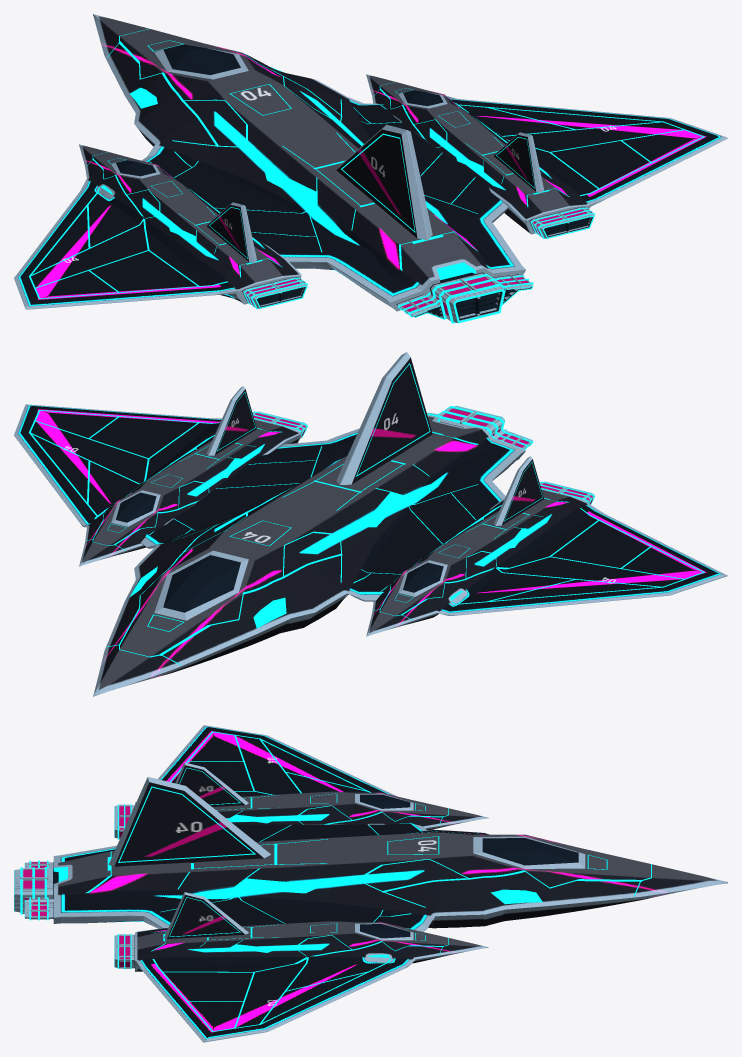
File: neon-black.glb
3 renders of one model, top to bottom at view 1: azimuth 30°, elevation 25°; view 2: azimuth 150°, elevation 25°; view 3: azimuth 270°, elevation 25°, orthographic. The views are drawn at different scales.
Visible parts, largest first — view 1: CENTER_AF04_BODY_CENTER, SIDE_L_AF04_BODY_CENTER, SIDE_R_AF04_BODY_CENTER, TAIL41_CENTER, CENTER_AF04_CANOPY_0, TAIL41_SIDE_R, TAIL41_SIDE_L, CENTER_AF04_CENTER_CANOPY_FRAME_USER; view 2: CENTER_AF04_BODY_CENTER, SIDE_L_AF04_BODY_CENTER, SIDE_R_AF04_BODY_CENTER, TAIL41_CENTER, CENTER_AF04_CANOPY_0, TAIL41_SIDE_L, TAIL41_SIDE_R, CENTER_AF04_CENTER_CANOPY_FRAME_USER, SIDE_L_AF04_CANOPY_0, SIDE_R_AF04_CANOPY_0; view 3: CENTER_AF04_BODY_CENTER, SIDE_R_AF04_BODY_CENTER, SIDE_L_AF04_BODY_CENTER, TAIL41_CENTER, TAIL41_SIDE_R, CENTER_AF04_CANOPY_0, TAIL41_SIDE_L, CENTER_AF04_CENTER_CANOPY_FRAME_USER, SIDE_L_AF04_CANOPY_0, SIDE_R_AF04_CANOPY_0.
Part boxes in pixels (bbox=[...]): CENTER_AF04_BODY_CENTER: bbox=[93, 14, 525, 311]; SIDE_L_AF04_BODY_CENTER: bbox=[14, 144, 301, 309]; SIDE_R_AF04_BODY_CENTER: bbox=[366, 74, 727, 234]; TAIL41_CENTER: bbox=[336, 125, 432, 240]; CENTER_AF04_CANOPY_0: bbox=[163, 44, 240, 74]; TAIL41_SIDE_R: bbox=[494, 132, 543, 192]; TAIL41_SIDE_L: bbox=[207, 202, 256, 262]; CENTER_AF04_CENTER_CANOPY_FRAME_USER: bbox=[154, 44, 248, 79]; CENTER_AF04_BODY_CENTER: bbox=[93, 415, 525, 696]; SIDE_L_AF04_BODY_CENTER: bbox=[366, 489, 727, 636]; SIDE_R_AF04_BODY_CENTER: bbox=[14, 404, 301, 566]; TAIL41_CENTER: bbox=[336, 352, 432, 484]; CENTER_AF04_CANOPY_0: bbox=[163, 555, 240, 612]; TAIL41_SIDE_L: bbox=[493, 456, 543, 525]; TAIL41_SIDE_R: bbox=[206, 386, 256, 455]; CENTER_AF04_CENTER_CANOPY_FRAME_USER: bbox=[154, 550, 248, 620]; SIDE_L_AF04_CANOPY_0: bbox=[403, 562, 443, 592]; SIDE_R_AF04_CANOPY_0: bbox=[116, 492, 156, 522]; CENTER_AF04_BODY_CENTER: bbox=[53, 822, 727, 931]; SIDE_R_AF04_BODY_CENTER: bbox=[135, 921, 488, 1042]; SIDE_L_AF04_BODY_CENTER: bbox=[135, 725, 488, 829]; TAIL41_CENTER: bbox=[108, 777, 270, 866]; TAIL41_SIDE_R: bbox=[164, 892, 248, 938]; CENTER_AF04_CANOPY_0: bbox=[482, 838, 578, 865]; TAIL41_SIDE_L: bbox=[175, 762, 248, 806]; CENTER_AF04_CENTER_CANOPY_FRAME_USER: bbox=[473, 836, 585, 868]; SIDE_L_AF04_CANOPY_0: bbox=[360, 794, 410, 808]; SIDE_R_AF04_CANOPY_0: bbox=[360, 924, 410, 938].
Size of the model in its own units: 14.09 by 2.83 by 13.42.
14 materials, 4 textured.
